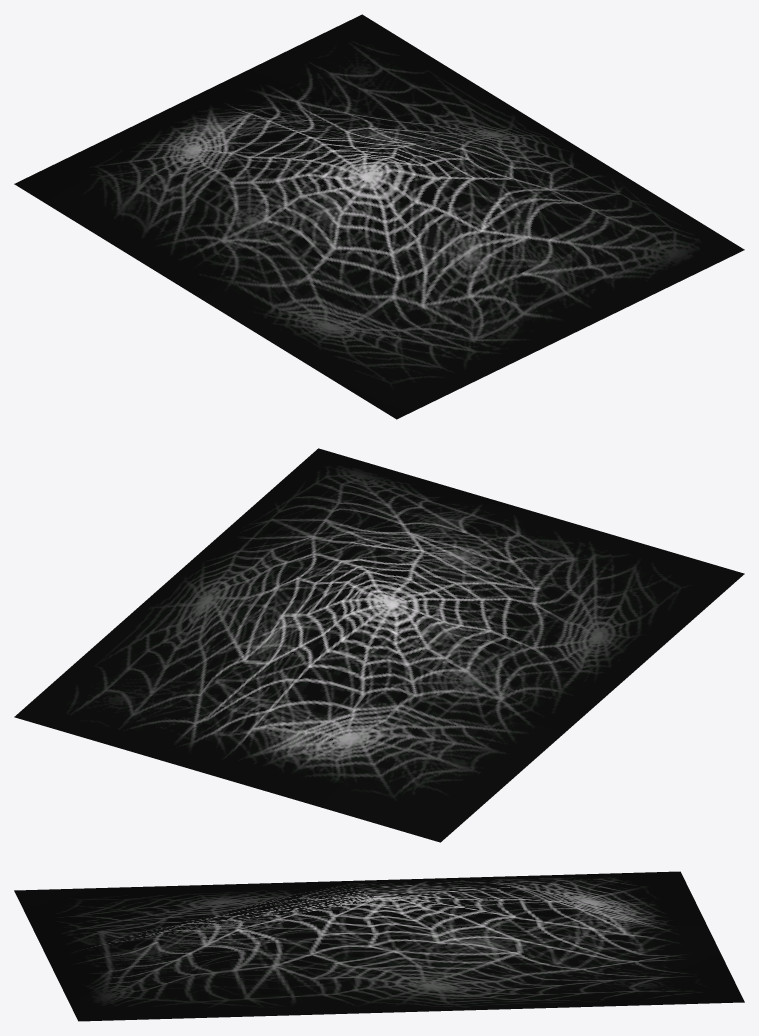
The model's file is MIRKWOOD_PLANE14.fbx.
3 views of the same model, one above another, from view 1: azimuth 30°, elevation 25°; view 2: azimuth 150°, elevation 25°; view 3: azimuth 270°, elevation 25° (orthographic). The views are drawn at different scales.
Visible parts, largest first — view 1: MIRKWOOD_PLANE14; view 2: MIRKWOOD_PLANE14; view 3: MIRKWOOD_PLANE14.
Boxes of the visible parts, <box> form: MIRKWOOD_PLANE14: <box>14,14,744,419</box>; MIRKWOOD_PLANE14: <box>14,448,744,842</box>; MIRKWOOD_PLANE14: <box>14,871,744,1021</box>.
Bounding box in the file's own units: 118332 × 20829 × 179397.
Materials: 1 (1 with a texture image).
